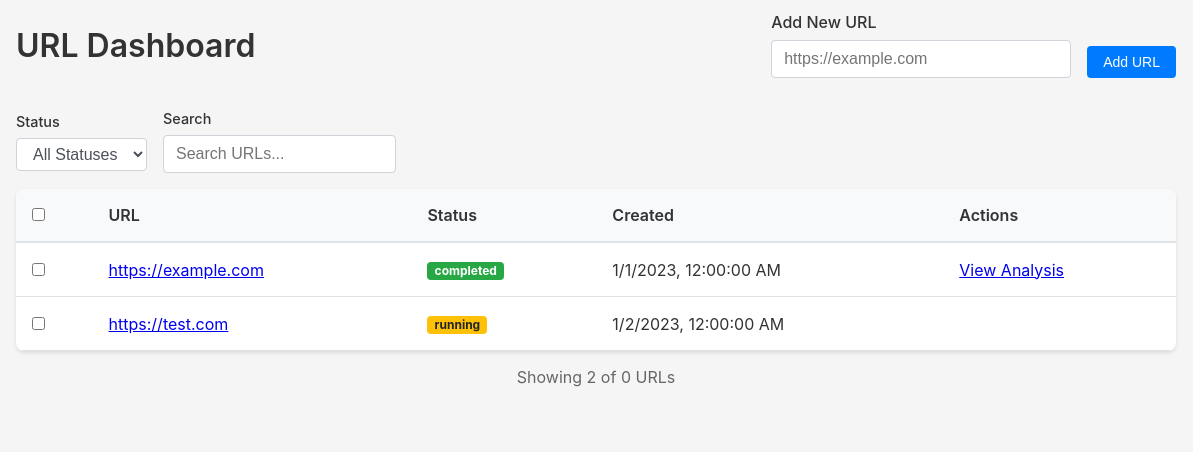
Test: Dashboard Component › handles bulk selection
Click the checkbox next to "https://example.com" at [38, 269], box top-left (32, 262), bottom-right (45, 276)
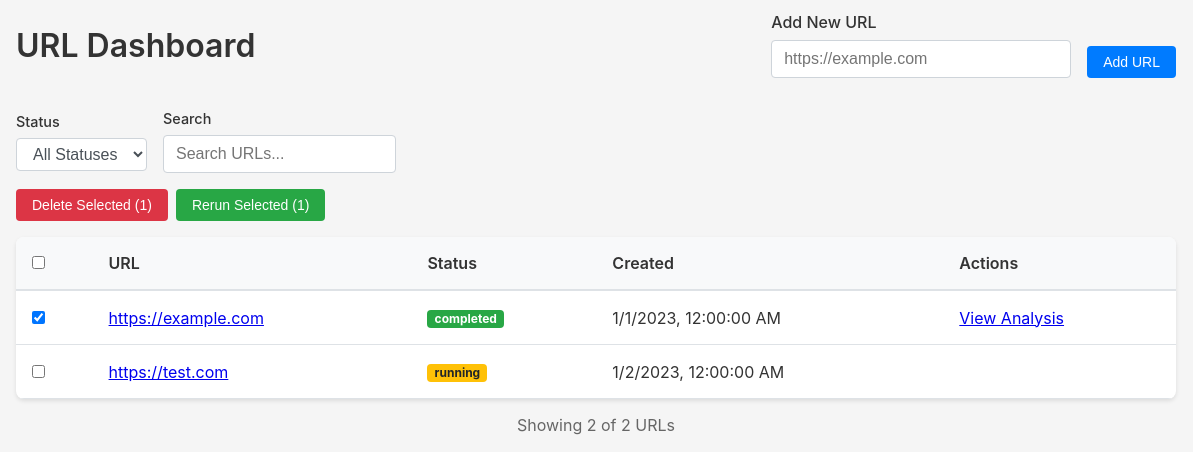
Now the button "Delete Selected (1)" is shown, box top-left (16, 189), bottom-right (168, 221)
